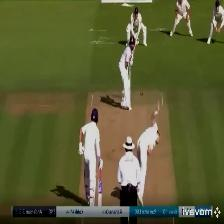ball: (137, 90, 146, 99)
batsman: (115, 34, 141, 113)
